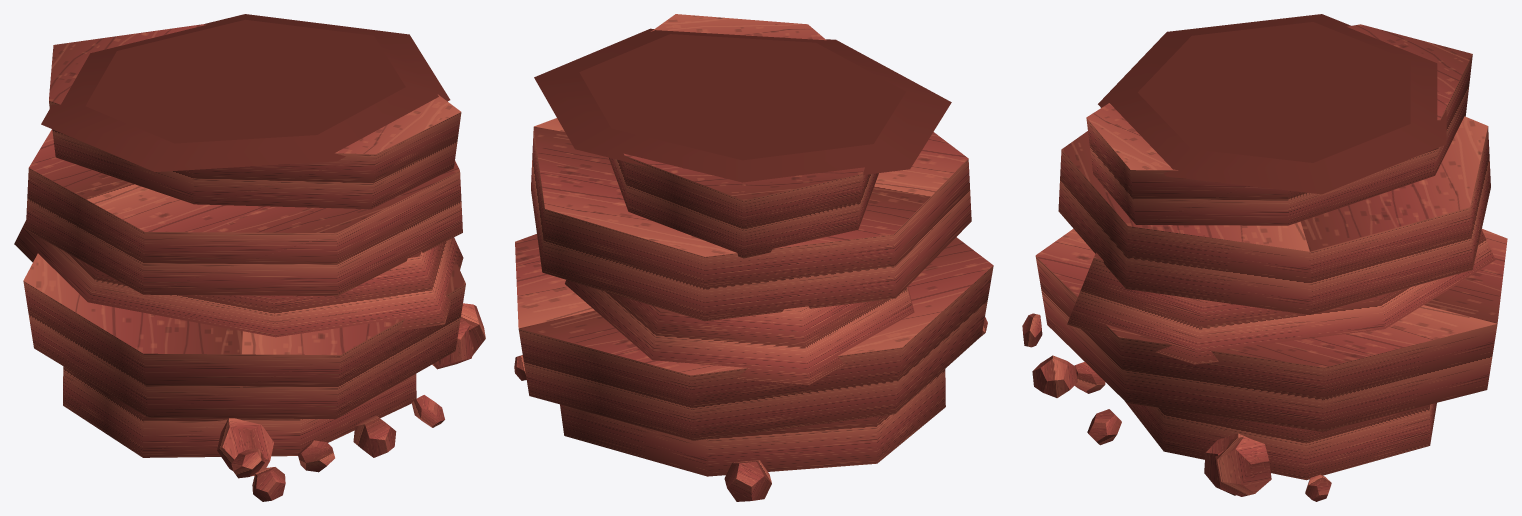
Rendered from canyon-raider-mesa-stack-v1.glb.
The picture shows the model from 3 angles, left to right: view 1: azimuth 30°, elevation 25°; view 2: azimuth 150°, elevation 25°; view 3: azimuth 270°, elevation 25°; orthographic projection. The views are drawn at different scales.
Parts seen in each view (by area): view 1: Canyon Raider · Layered Mesa; view 2: Canyon Raider · Layered Mesa; view 3: Canyon Raider · Layered Mesa.
Part boxes in pixels (<box>): Canyon Raider · Layered Mesa: <box>14,14,485,501</box>; Canyon Raider · Layered Mesa: <box>514,14,993,501</box>; Canyon Raider · Layered Mesa: <box>1022,14,1507,501</box>.
Bounding box in the file's own units: 29.21 × 21.39 × 29.97.
Materials: 2 (1 with a texture image).
